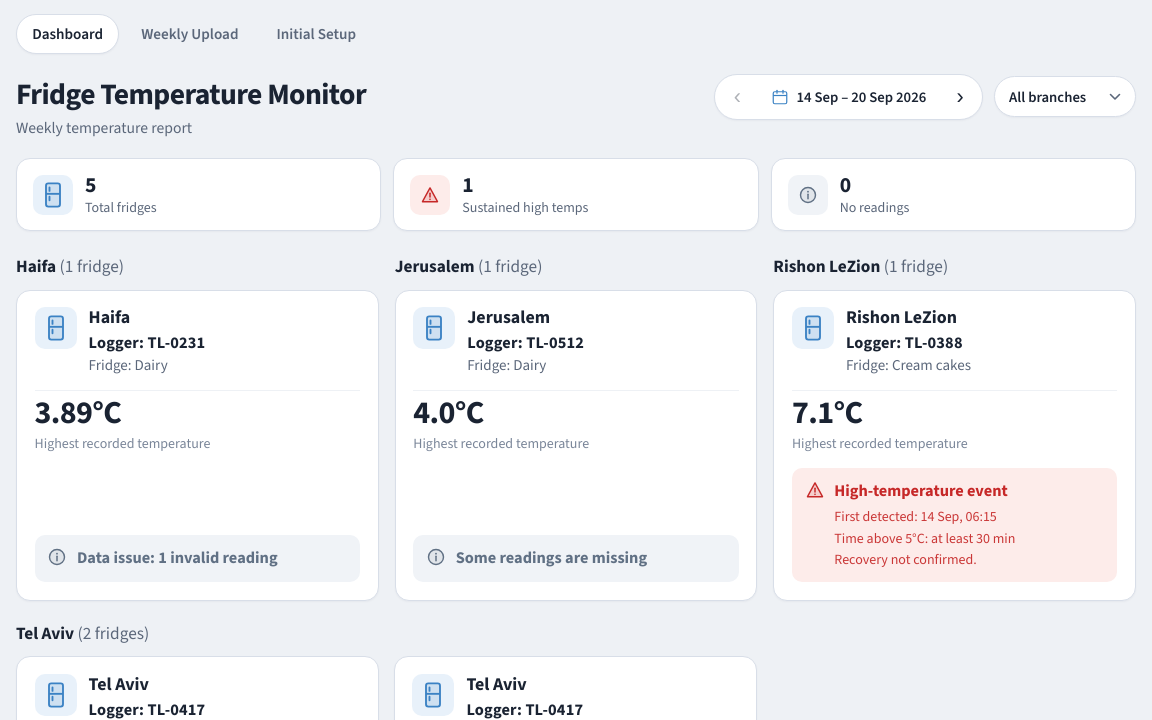
Test case: App fridge details navigation › opens Initial Setup from the main nav
Expected: the heading "Fridge Temperature Monitor" is shown, [16,74,366,114]
Click the button "Initial Setup" at (316, 34), box [260,14,372,54]
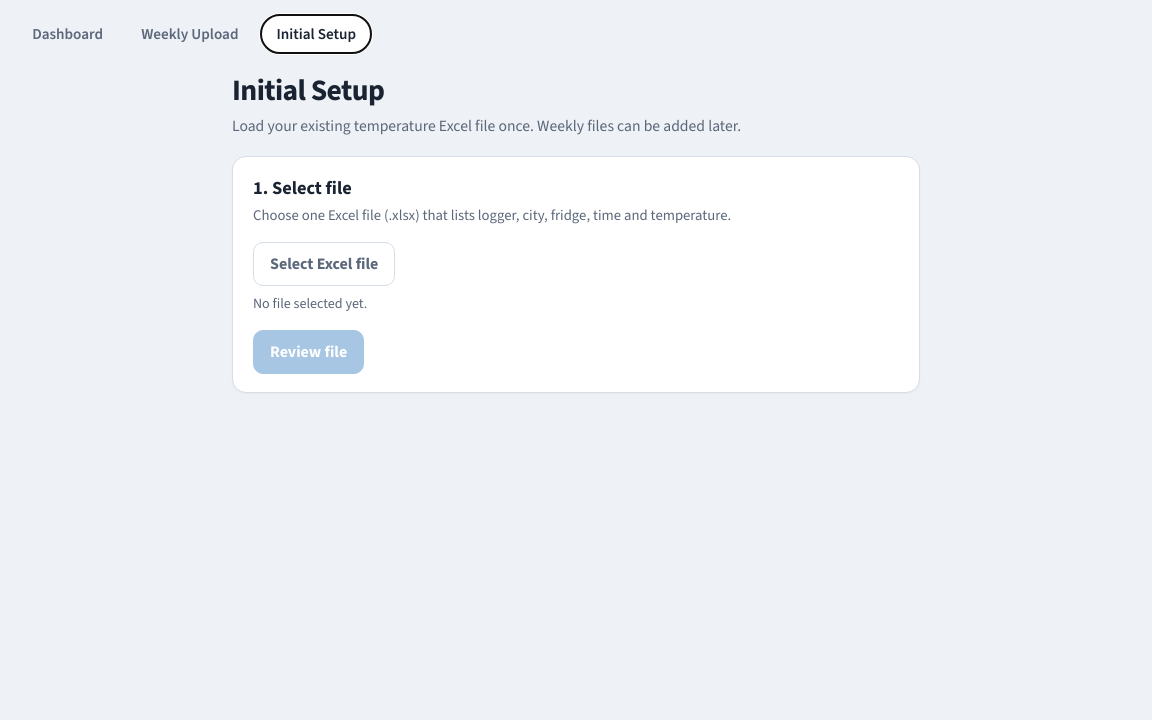
Result: the heading "Initial Setup" is shown at [232,70,384,110]
Result: the text "Load your existing temperature Excel file once" is shown at [232,115,741,136]
